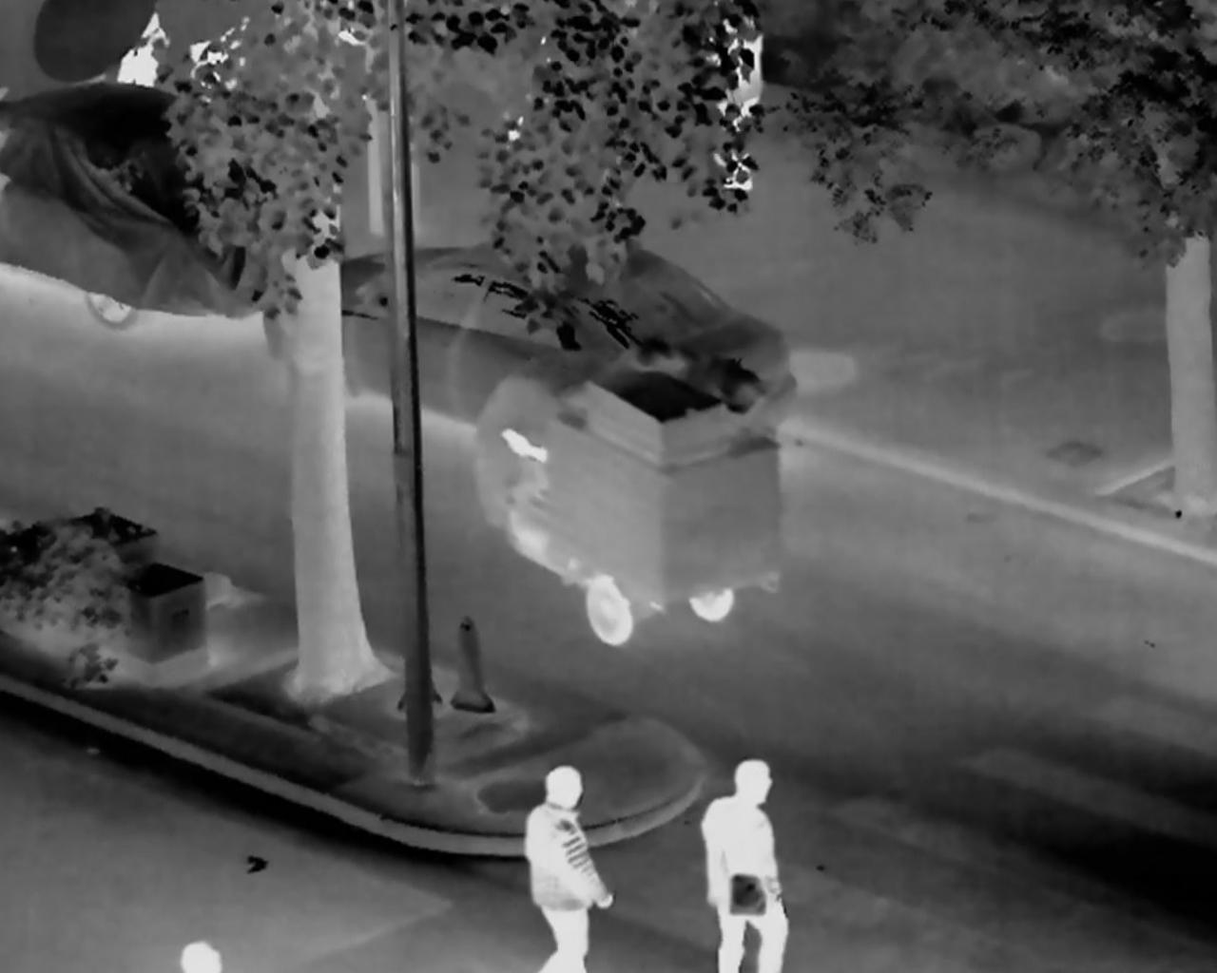person: (700, 758, 787, 973), (523, 766, 611, 973), (703, 9, 763, 194), (495, 412, 550, 488), (176, 942, 220, 973)
